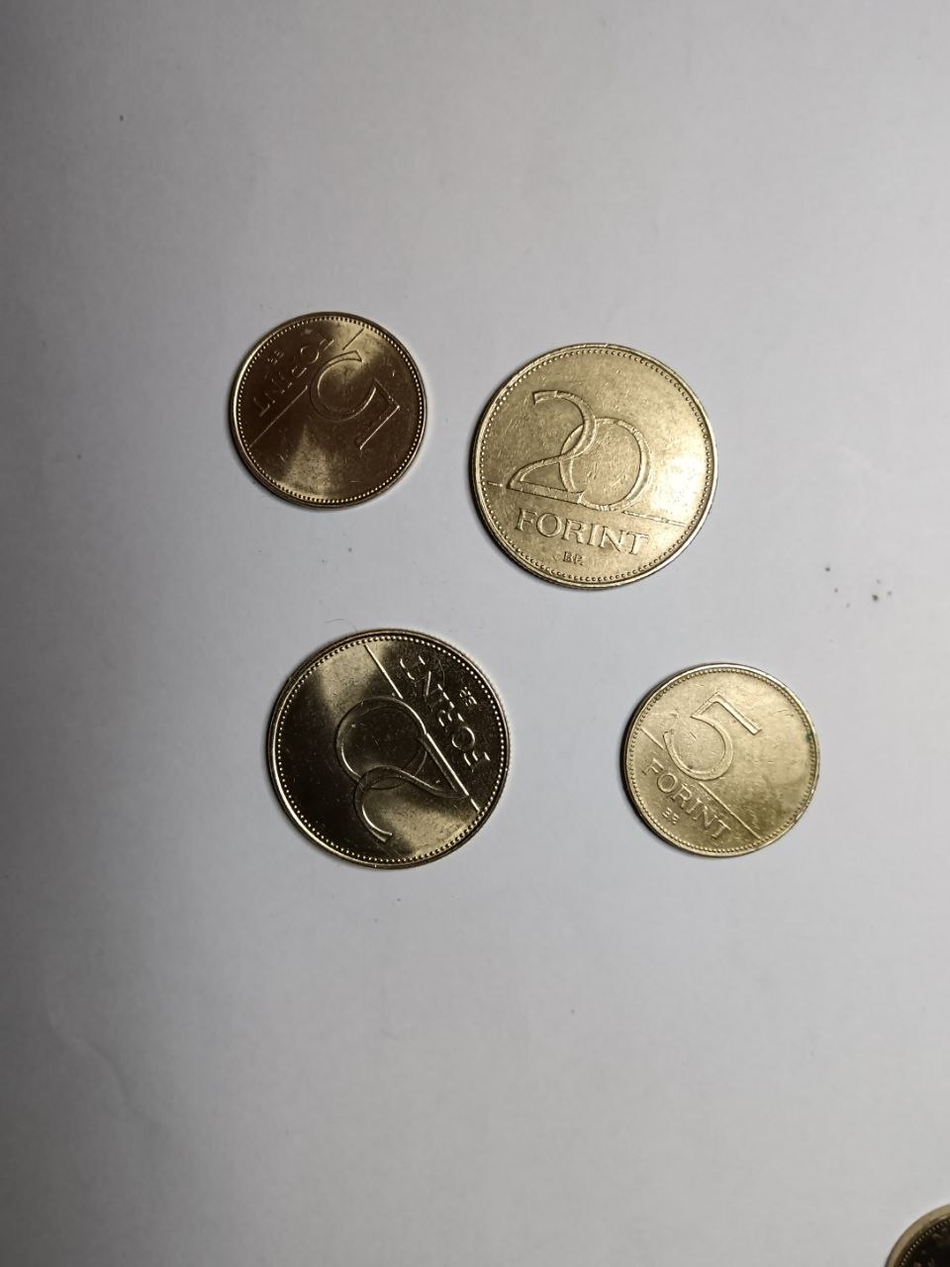20ft: (474, 345, 716, 585), (272, 631, 507, 869)
5ft: (232, 308, 426, 506), (632, 666, 815, 860)
